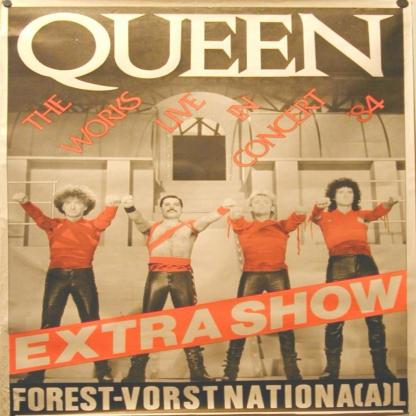face: (64, 198, 85, 217), (163, 198, 182, 218), (252, 197, 273, 214), (336, 189, 354, 206)
